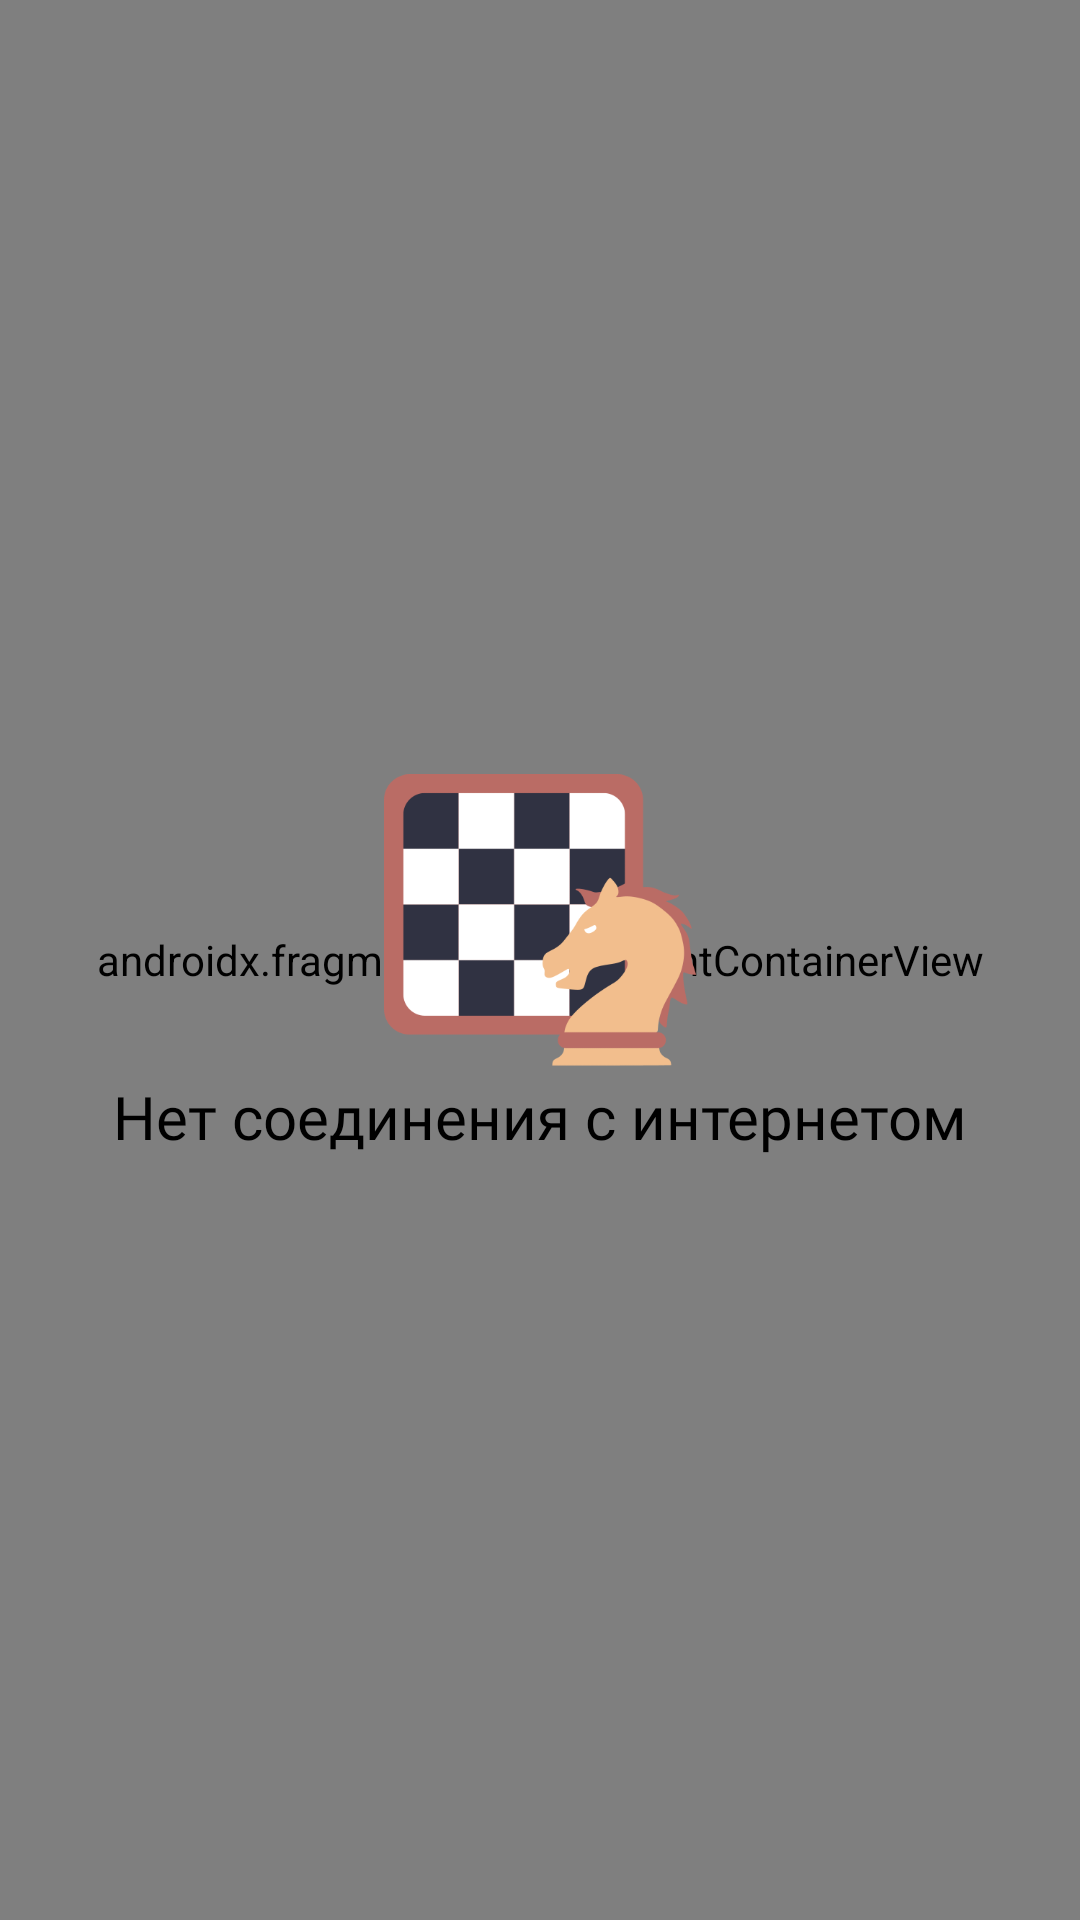

Screen size 1080*1920. Icon name, then its box in pixels as bbox(x1, y1, x2, y2):
chess: bbox(384, 774, 696, 1066)
